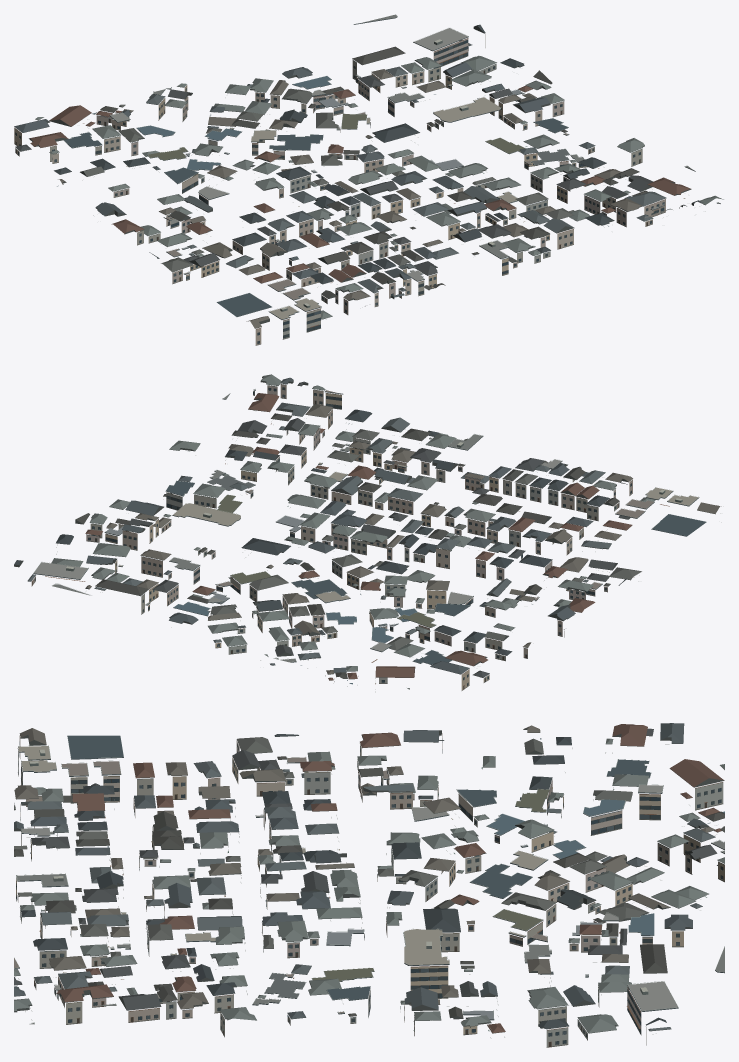
3 views of the same model, one above another, from view 1: azimuth 30°, elevation 25°; view 2: azimuth 150°, elevation 25°; view 3: azimuth 270°, elevation 25° (orthographic). The views are drawn at different scales.
Parts seen in each view (by area): view 1: r5-c6; view 2: r5-c6; view 3: r5-c6.
Boxes of the visible parts, bbox=[...] form: r5-c6: bbox=[14, 14, 723, 345]; r5-c6: bbox=[14, 374, 721, 692]; r5-c6: bbox=[14, 723, 724, 1047].
Bounding box in the file's own units: 250 × 19.98 × 250.
